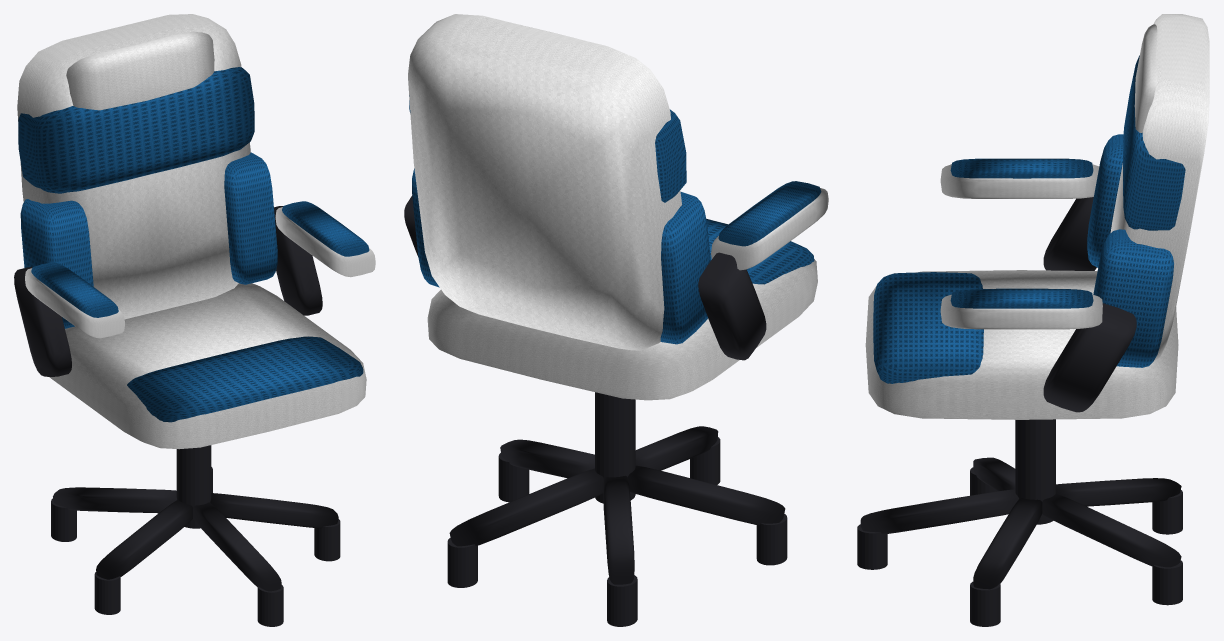
3 views of the same model, side by side, from view 1: azimuth 30°, elevation 25°; view 2: azimuth 150°, elevation 25°; view 3: azimuth 270°, elevation 25° (orthographic). The views are drawn at different scales.
Visible parts, largest first — view 1: 15 backrest, 13 seat, 16 backrest_blue_top, 14 seat_blue_front, 17 backrest_headrest_pad, 19 backrest_blue_side_right, 18 backrest_blue_side_left, 20 armrest_support_left, 6 base_spoke_5, 3 base_spoke_2, 2 base_spoke_1, 21 armrest_support_right (+10 smaller); view 2: 15 backrest, 13 seat, 18 backrest_blue_side_left, 20 armrest_support_left, 6 base_spoke_5, 4 base_spoke_3, 1 base_column, 24 armrest_pad_blue_left, 5 base_spoke_4, 22 armrest_left, 3 base_spoke_2, 2 base_spoke_1 (+8 smaller); view 3: 13 seat, 15 backrest, 14 seat_blue_front, 19 backrest_blue_side_right, 21 armrest_support_right, 16 backrest_blue_top, 4 base_spoke_3, 2 base_spoke_1, 23 armrest_right, 22 armrest_left, 1 base_column, 3 base_spoke_2 (+11 smaller).
Part boxes in pixels (x1=…): 15 backrest: x1=17, y1=14, x2=250, y2=319; 13 seat: x1=49, y1=283, x2=366, y2=449; 16 backrest_blue_top: x1=18, y1=67, x2=254, y2=193; 14 seat_blue_front: x1=127, y1=336, x2=363, y2=422; 17 backrest_headrest_pad: x1=66, y1=31, x2=214, y2=110; 19 backrest_blue_side_right: x1=224, y1=152, x2=277, y2=284; 18 backrest_blue_side_left: x1=20, y1=199, x2=93, y2=328; 20 armrest_support_left: x1=14, y1=267, x2=71, y2=376; 6 base_spoke_5: x1=96, y1=500, x2=192, y2=579; 3 base_spoke_2: x1=210, y1=493, x2=338, y2=528; 2 base_spoke_1: x1=193, y1=502, x2=281, y2=591; 21 armrest_support_right: x1=274, y1=206, x2=322, y2=315; 15 backrest: x1=408, y1=14, x2=681, y2=350; 13 seat: x1=427, y1=259, x2=817, y2=400; 18 backrest_blue_side_left: x1=660, y1=192, x2=710, y2=344; 20 armrest_support_left: x1=698, y1=252, x2=766, y2=360; 6 base_spoke_5: x1=627, y1=465, x2=785, y2=525; 4 base_spoke_3: x1=449, y1=468, x2=603, y2=546; 1 base_column: x1=595, y1=392, x2=635, y2=503; 24 armrest_pad_blue_left: x1=718, y1=181, x2=821, y2=246; 5 base_spoke_4: x1=603, y1=475, x2=634, y2=584; 22 armrest_left: x1=711, y1=188, x2=828, y2=270; 3 base_spoke_2: x1=500, y1=439, x2=594, y2=478; 2 base_spoke_1: x1=635, y1=426, x2=718, y2=470; 13 seat: x1=865, y1=270, x2=1178, y2=419; 15 backrest: x1=1110, y1=14, x2=1209, y2=362; 14 seat_blue_front: x1=873, y1=272, x2=983, y2=383; 19 backrest_blue_side_right: x1=1093, y1=229, x2=1173, y2=367; 21 armrest_support_right: x1=1043, y1=303, x2=1136, y2=412; 16 backrest_blue_top: x1=1123, y1=55, x2=1185, y2=230; 4 base_spoke_3: x1=1042, y1=493, x2=1181, y2=567; 2 base_spoke_1: x1=860, y1=489, x2=1018, y2=534; 23 armrest_right: x1=940, y1=294, x2=1102, y2=329; 22 armrest_left: x1=940, y1=164, x2=1099, y2=198; 1 base_column: x1=1015, y1=419, x2=1055, y2=524; 3 base_spoke_2: x1=973, y1=498, x2=1042, y2=589.
Size of the model in its own units: 0.62 by 1 by 0.62.
Materials: 4 (2 with a texture image).
